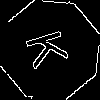K: (25, 25, 78, 71)
